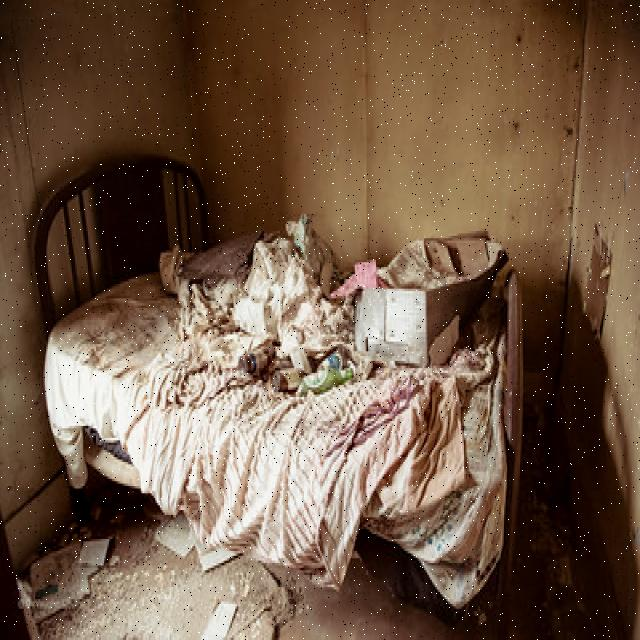bed: (30, 182, 526, 608)
